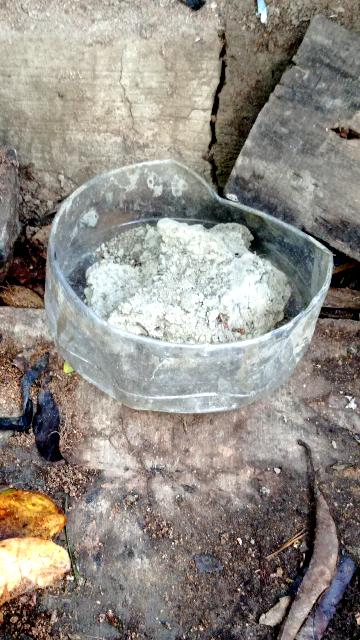hardplastic: (42, 183, 328, 400)
